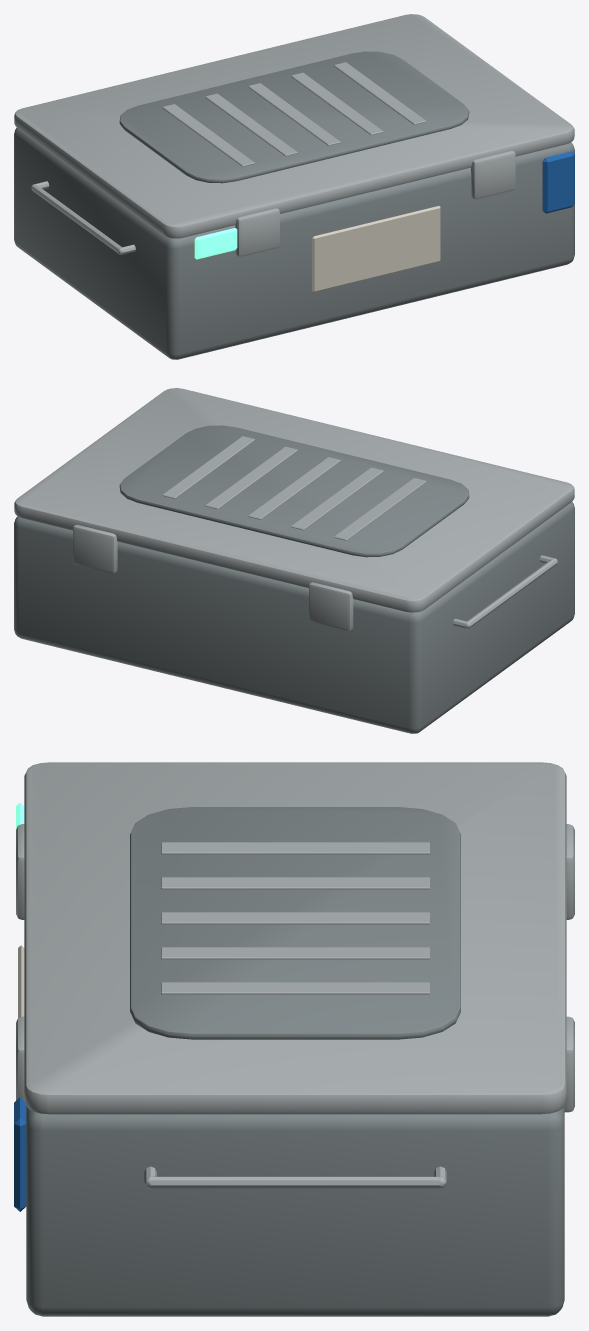
Rendered from sc-instrument-set.glb.
3 renders of one model, top to bottom at view 1: azimuth 30°, elevation 25°; view 2: azimuth 150°, elevation 25°; view 3: azimuth 270°, elevation 25°, orthographic. The views are drawn at different scales.
Visible parts, largest first — view 1: sc-instrument-set; view 2: sc-instrument-set; view 3: sc-instrument-set.
Boxes of the visible parts, left/top/right/bottom form: sc-instrument-set: left=14, top=14, right=574, bottom=359; sc-instrument-set: left=14, top=388, right=574, bottom=733; sc-instrument-set: left=14, top=762, right=574, bottom=1316.
Size of the model in its own units: 0.41 by 0.1273 by 0.271.
